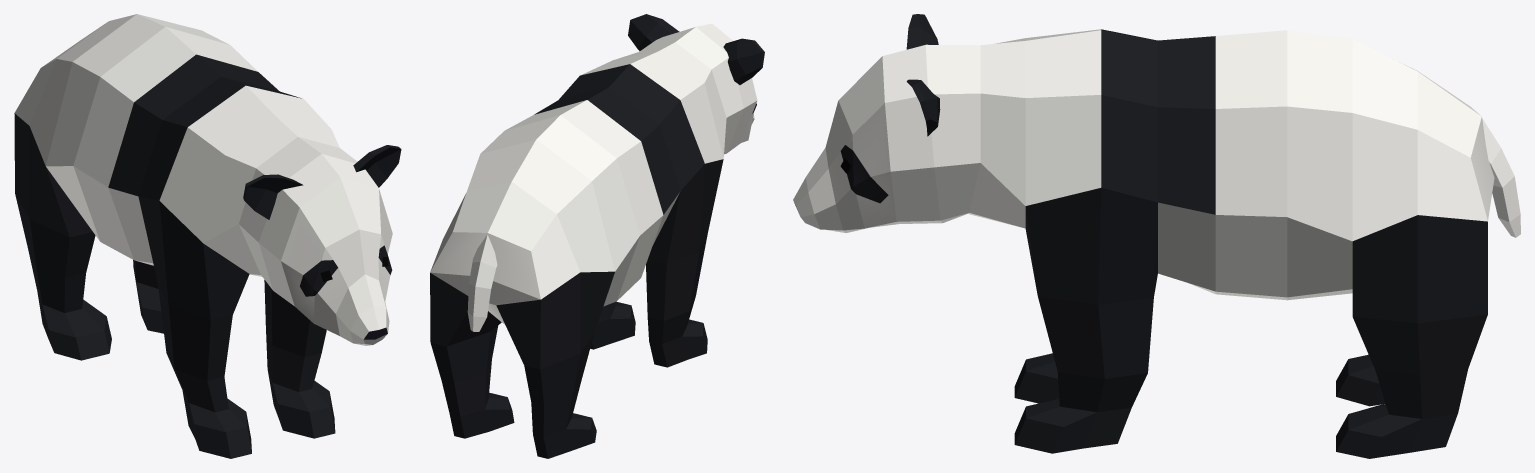
Rendered from Panda.gltf.
3 renders of one model, left to right at view 1: azimuth 30°, elevation 25°; view 2: azimuth 150°, elevation 25°; view 3: azimuth 270°, elevation 25°, orthographic. The views are drawn at different scales.
Parts seen in each view (by area): view 1: node-0; view 2: node-0; view 3: node-0.
Boxes of the visible parts, box(x1,y1,x2,y2) form: node-0: box(14, 14, 401, 458); node-0: box(430, 14, 764, 458); node-0: box(793, 14, 1520, 458).
Size of the model in its own units: 87.28 by 151 by 259.
1 material, 1 textured.
